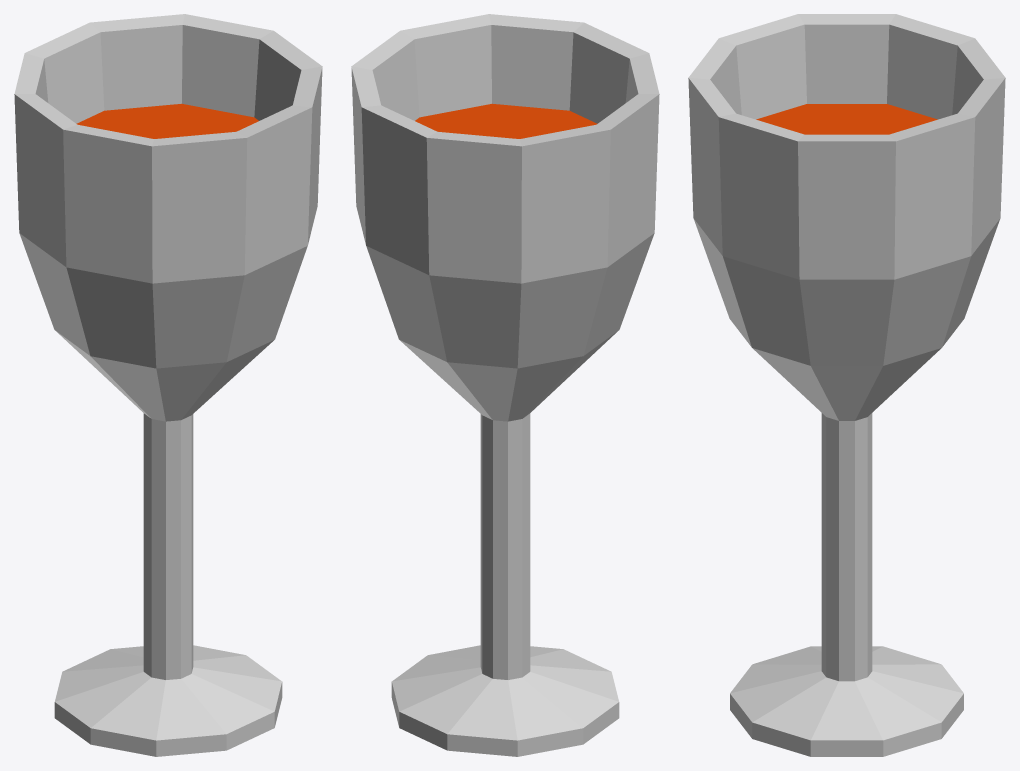
File: R_Cup_Drink_2.fbx
3 views of the same model, side by side, from view 1: azimuth 30°, elevation 25°; view 2: azimuth 150°, elevation 25°; view 3: azimuth 270°, elevation 25° (orthographic).
Parts seen in each view (by area): view 1: R_Cup_Drink_2; view 2: R_Cup_Drink_2; view 3: R_Cup_Drink_2.
Boxes of the visible parts, x1,y1,x2,y2 form: R_Cup_Drink_2: (14,14,322,756); R_Cup_Drink_2: (351,14,659,756); R_Cup_Drink_2: (688,14,1005,756).
Bounding box in the file's own units: 51.67 × 54.33 × 120.
